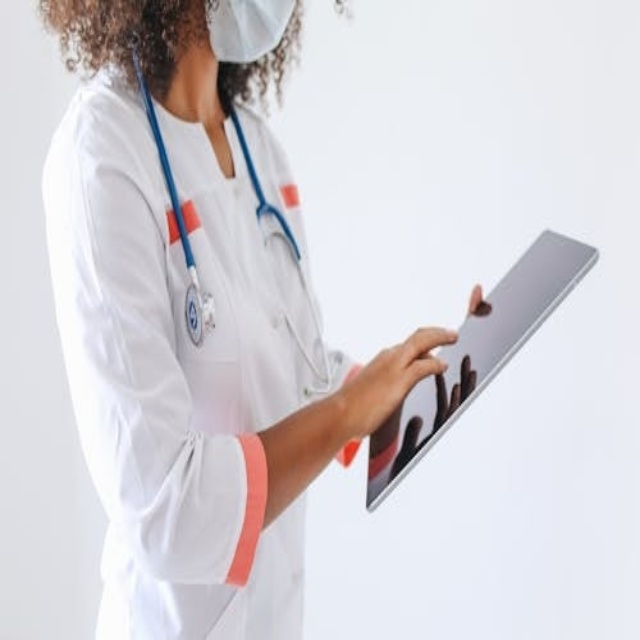Mascara: (206, 0, 296, 63)
Sin_guantes: (328, 319, 460, 450)
